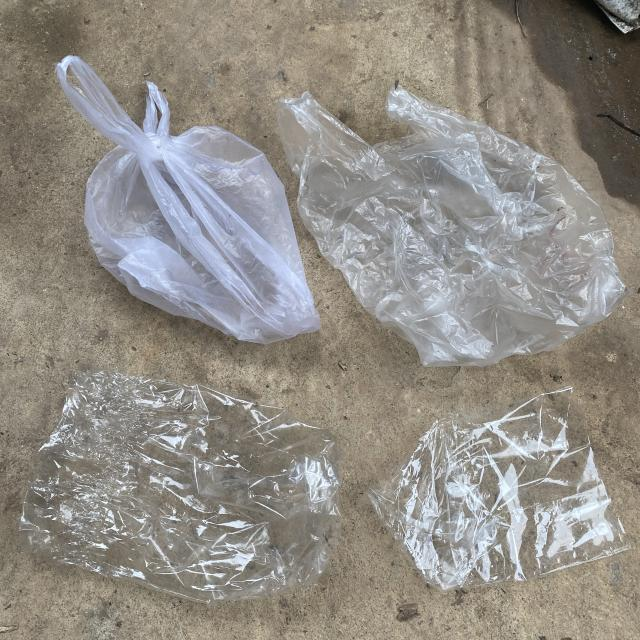Single-layer Plastic: (278, 86, 628, 366), (56, 56, 320, 344), (20, 371, 340, 604), (368, 388, 629, 591)
